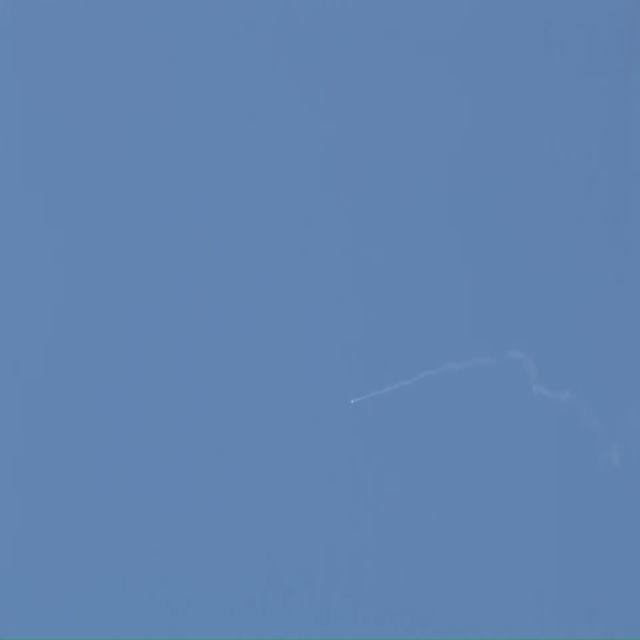Rocket: (351, 400, 353, 402)
